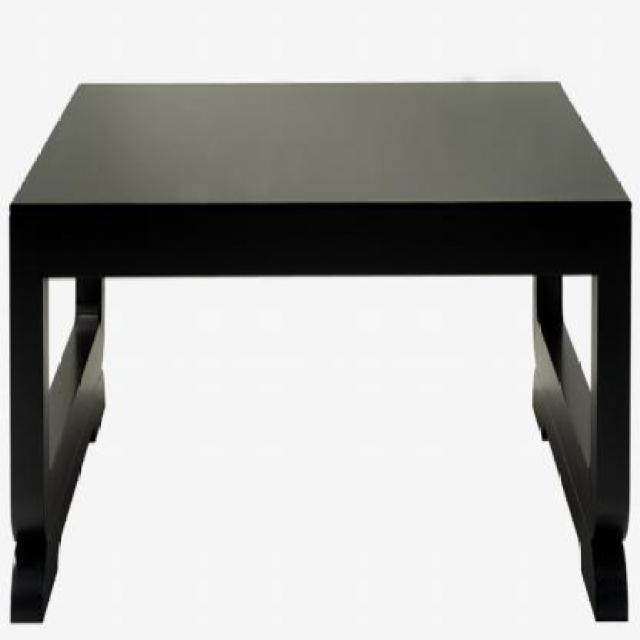table: (9, 80, 633, 626)
